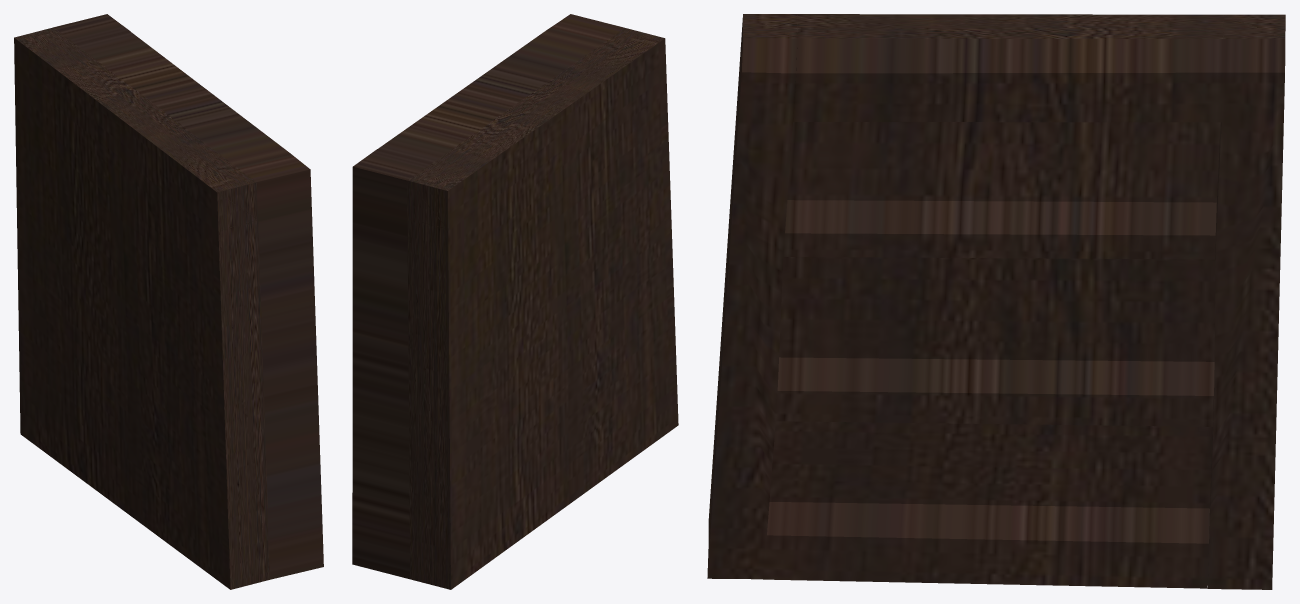
Rendered from bookshelf.fbx.
The picture shows the model from 3 angles, left to right: view 1: azimuth 30°, elevation 25°; view 2: azimuth 150°, elevation 25°; view 3: azimuth 270°, elevation 25°; orthographic projection. The views are drawn at different scales.
Visible parts, largest first — view 1: Cube; view 2: Cube; view 3: Cube.
Part boxes in pixels (x1,y1,x2,y2): Cube: (14,14,323,589); Cube: (352,14,678,589); Cube: (707,14,1285,589).
Size of the model in its own units: 137 by 502 by 511.
